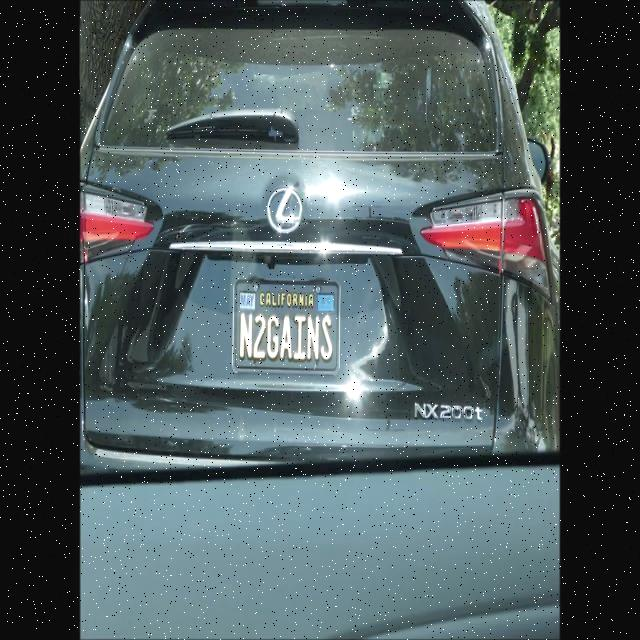licenseplate: (228, 282, 342, 378)
